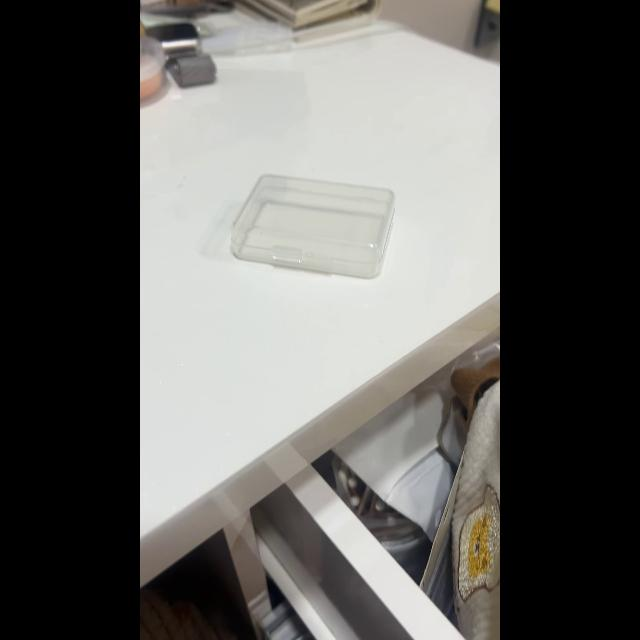clean: (232, 178, 396, 268)
